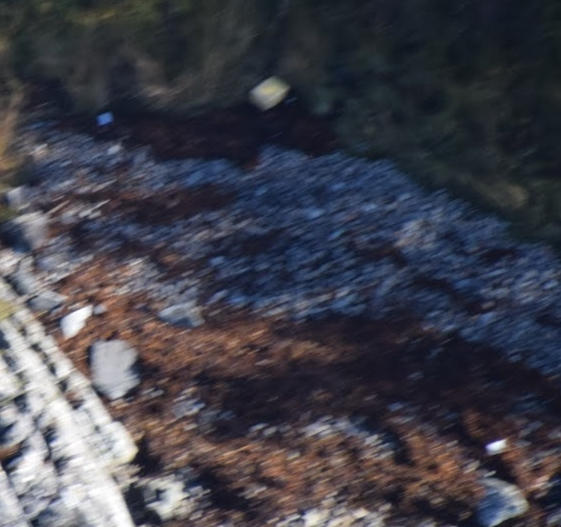white_in_green: (33, 279, 119, 358), (228, 58, 309, 129), (460, 410, 535, 479), (78, 89, 136, 145)
